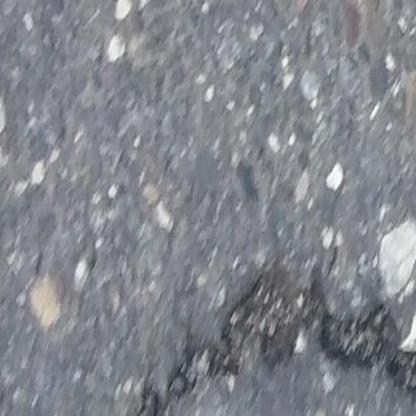Cracks: (119, 256, 416, 416)
